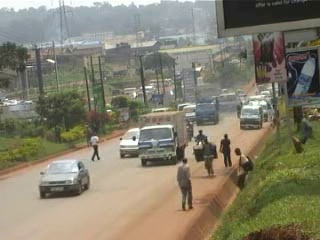Car: (36, 157, 92, 203), (117, 124, 141, 163)
Motorcycle: (190, 129, 211, 158), (186, 118, 194, 143)
